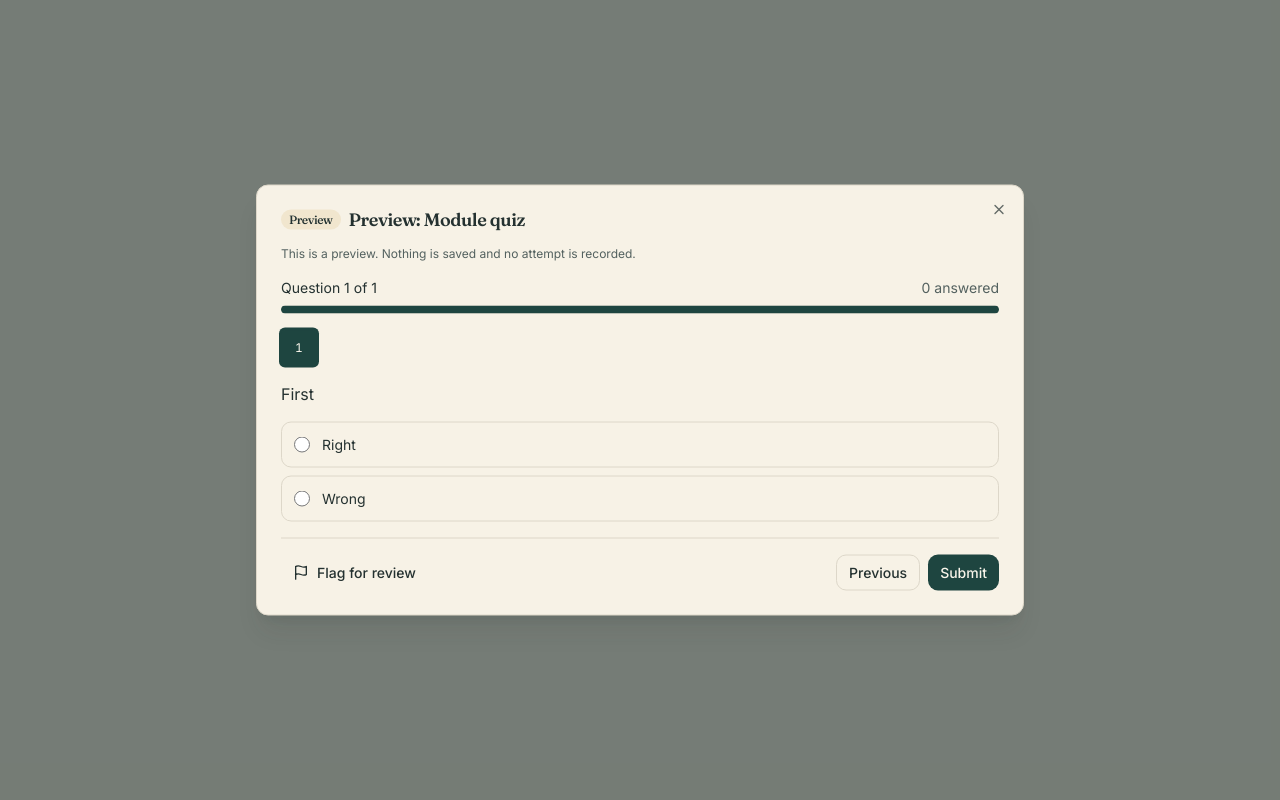
Test: AssessmentPreview › submits without confirmation once everything is answered, and scores the result
Note: The label wraps the input, so the option text is the radio's accessible name.
Click the radio button labelled "Right" at (302, 444), box top-left (294, 436), bottom-right (310, 452)
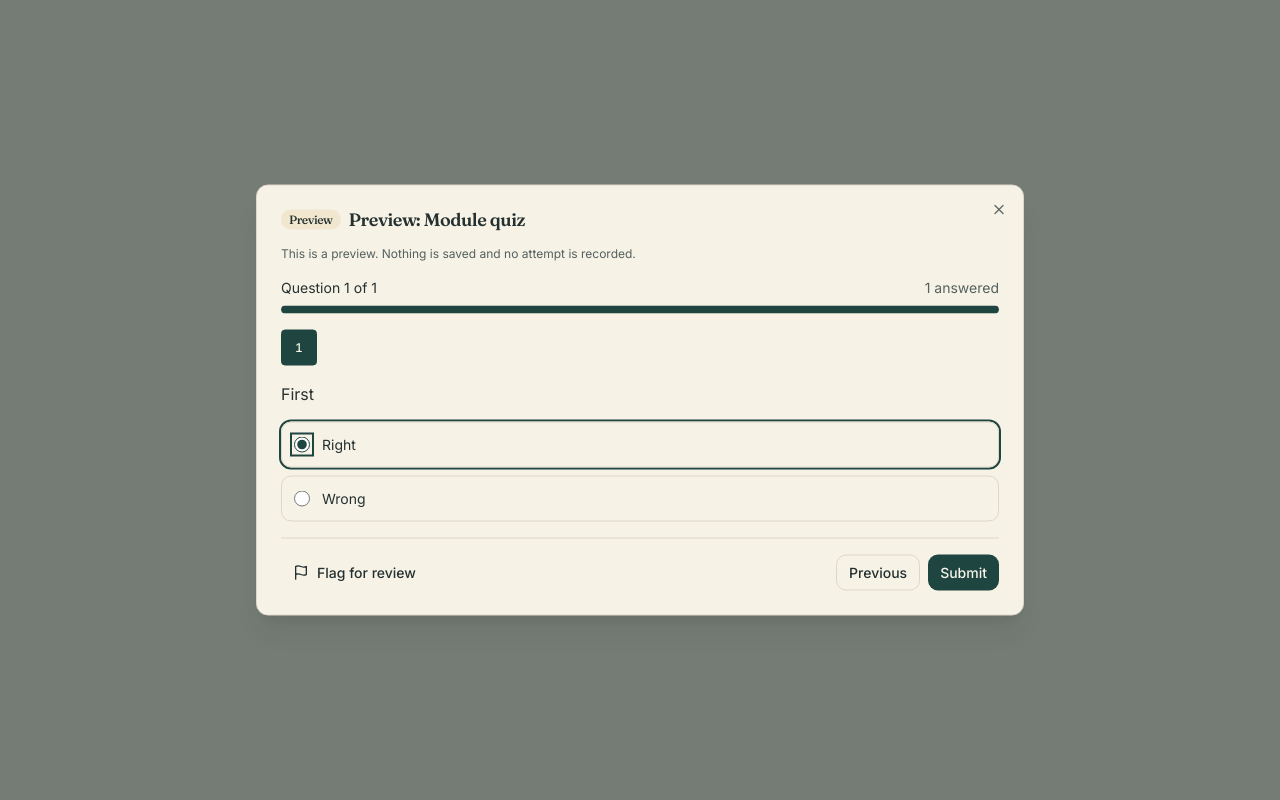
Click the button "Submit" at (964, 572), box top-left (928, 554), bottom-right (999, 590)
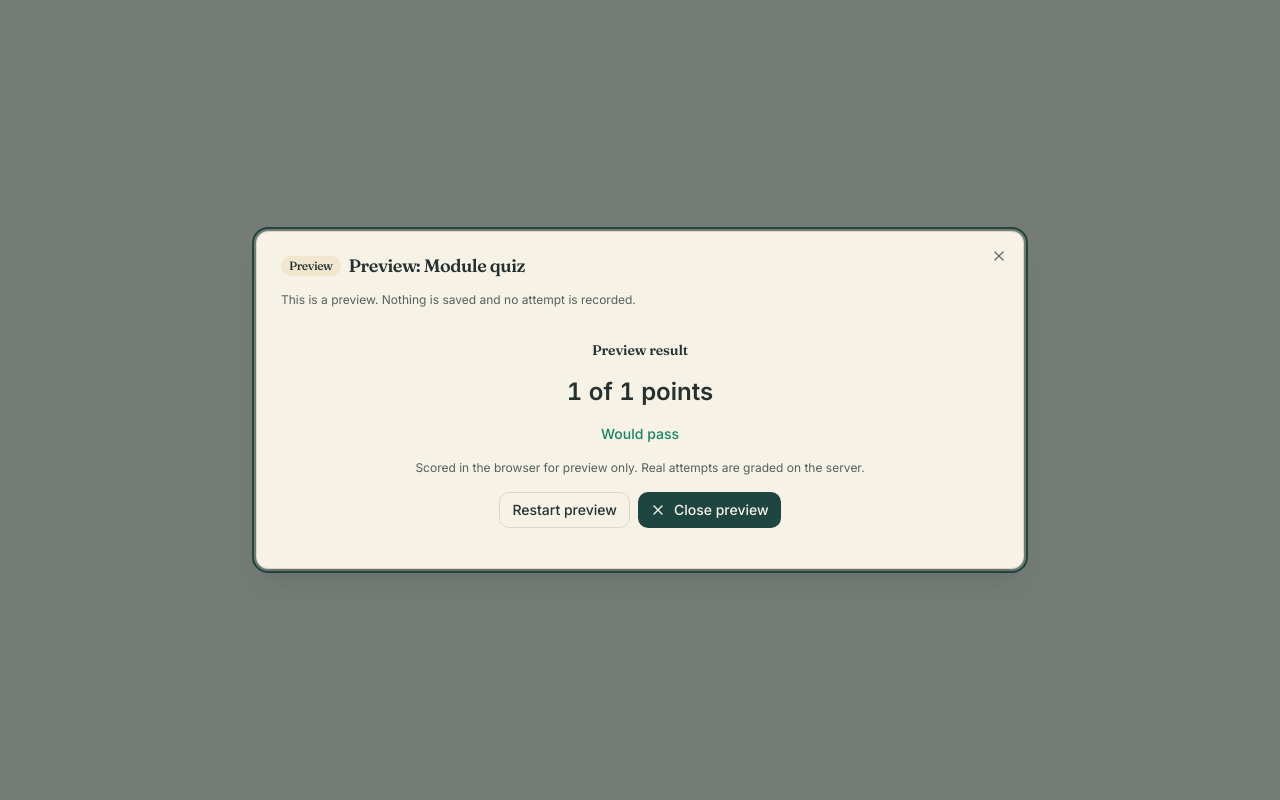
Expected: the heading "Preview result" is shown, top-left (592, 341), bottom-right (688, 359)
Expected: the text "1 of 1 points" is shown, top-left (567, 377), bottom-right (713, 406)
Expected: the text "Would pass" is shown, top-left (601, 425), bottom-right (679, 442)
